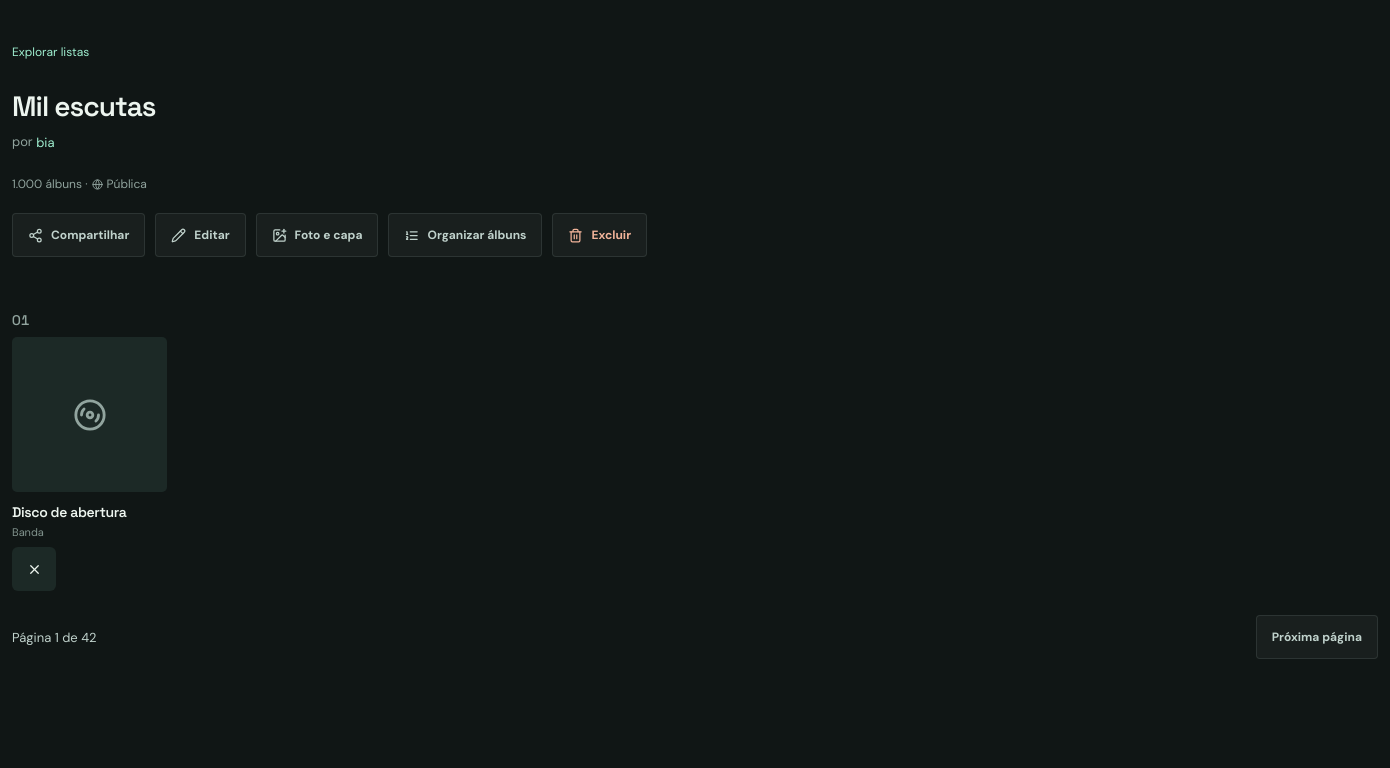
Test case: shows failed moves without announcing success or changing local order
Click the button "Organizar álbuns": (466, 235) [388, 213, 542, 257]
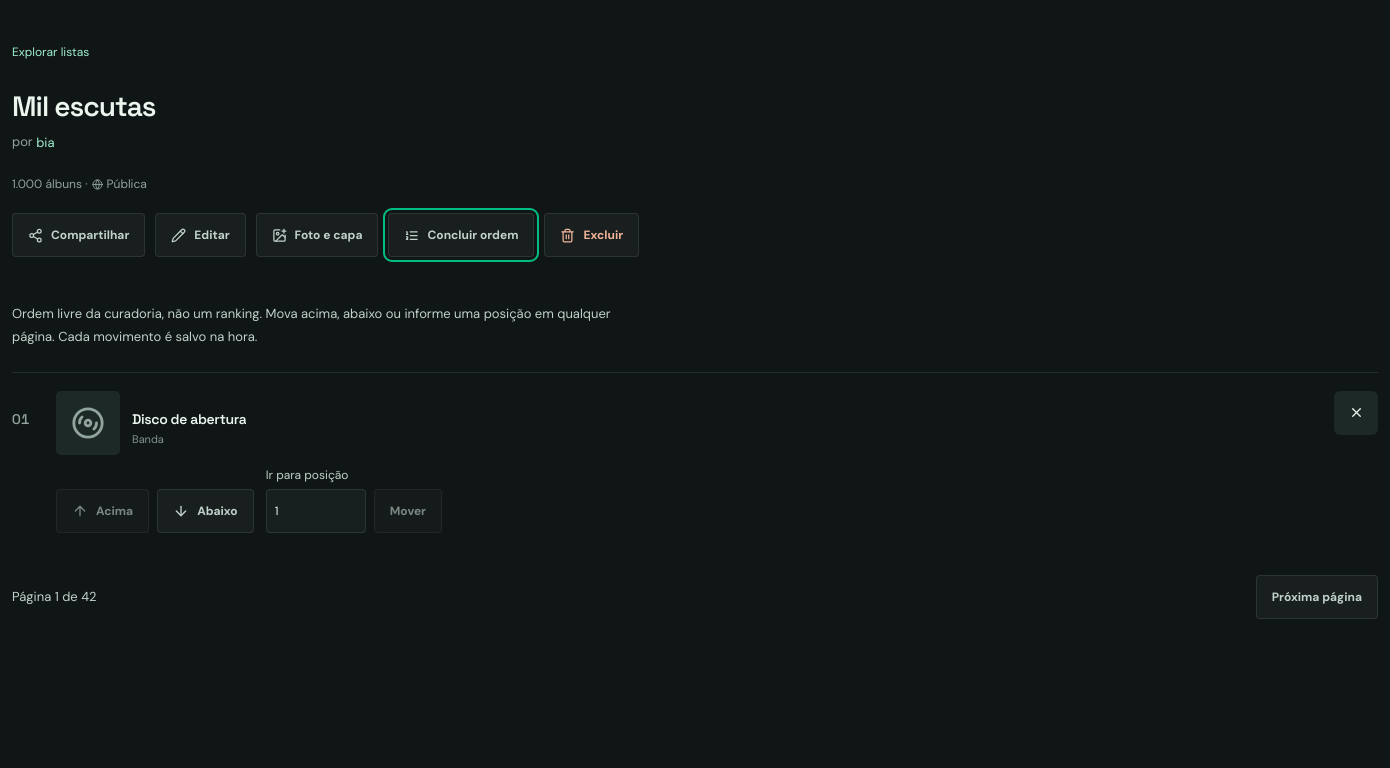
Click the button with aria-label "Mover Disco de abertura para baixo": (205, 511) [157, 489, 254, 533]
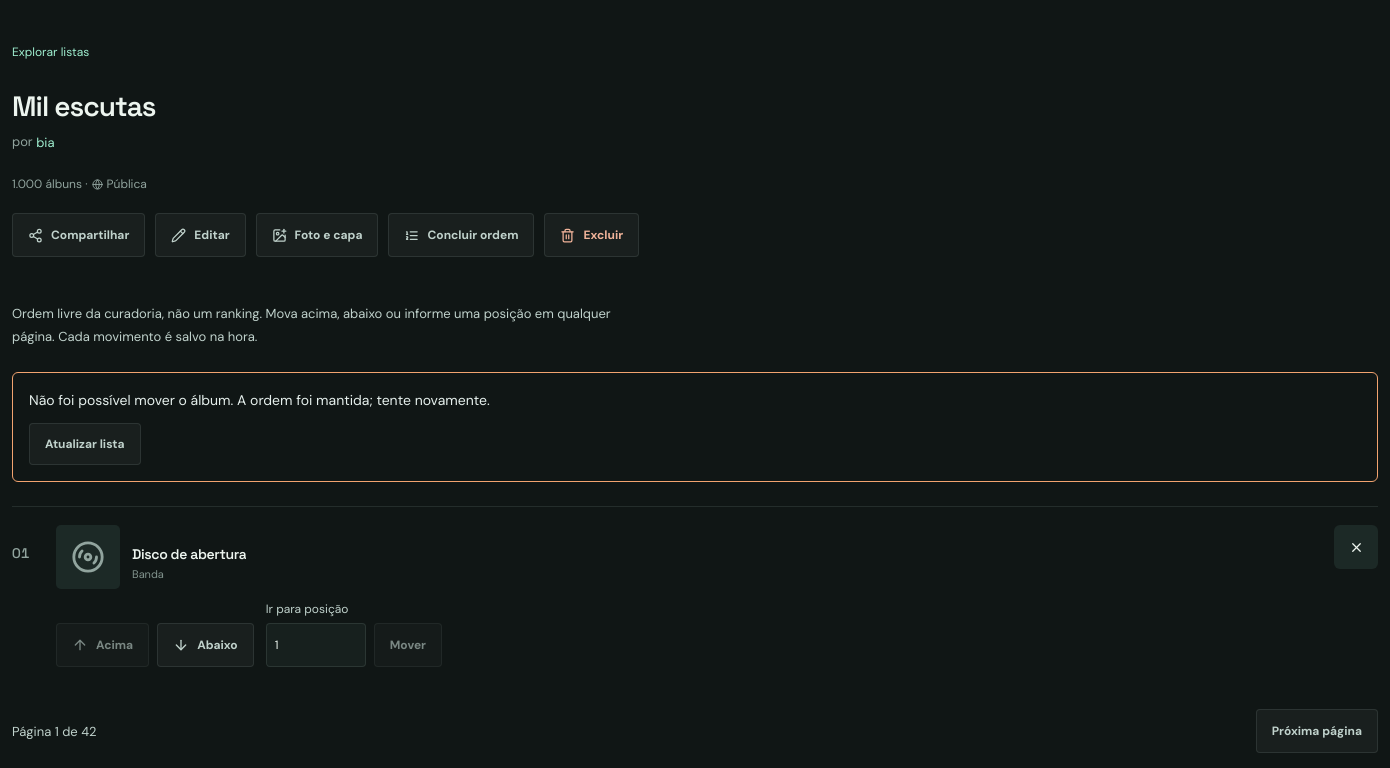
Expected: the 3rd message shows "A ordem foi mantida", [29, 391, 490, 409]
